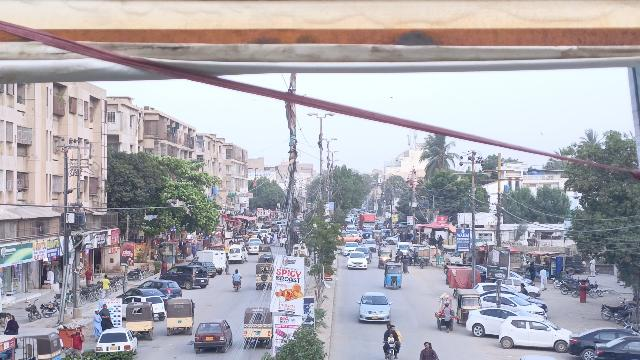Bike: (381, 339, 402, 360), (231, 280, 244, 294)
Car: (497, 315, 571, 351), (566, 322, 629, 358), (465, 305, 530, 339), (193, 318, 235, 354), (93, 328, 139, 360), (356, 291, 396, 326), (592, 333, 640, 360), (160, 264, 210, 289), (345, 251, 370, 270)
Cart: (432, 291, 457, 333)
Person: (384, 323, 399, 341), (420, 339, 432, 360), (232, 270, 242, 282), (384, 323, 392, 333), (387, 333, 395, 341)
Rickshaw: (240, 305, 275, 350), (124, 301, 156, 341), (165, 297, 196, 337), (456, 287, 480, 326), (381, 261, 406, 291), (254, 262, 275, 291), (376, 246, 391, 269)
Truck: (197, 248, 226, 273)
